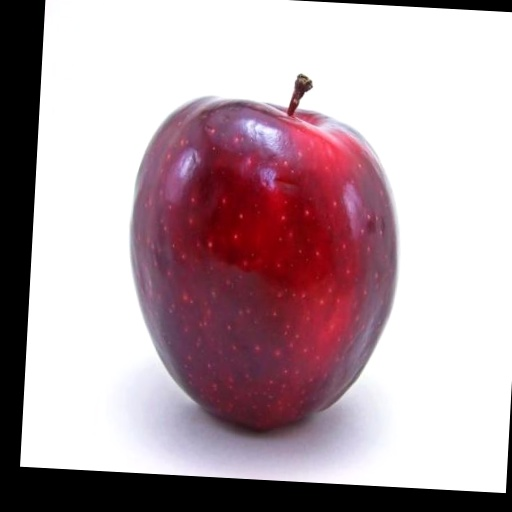fruit: (131, 76, 397, 429)
